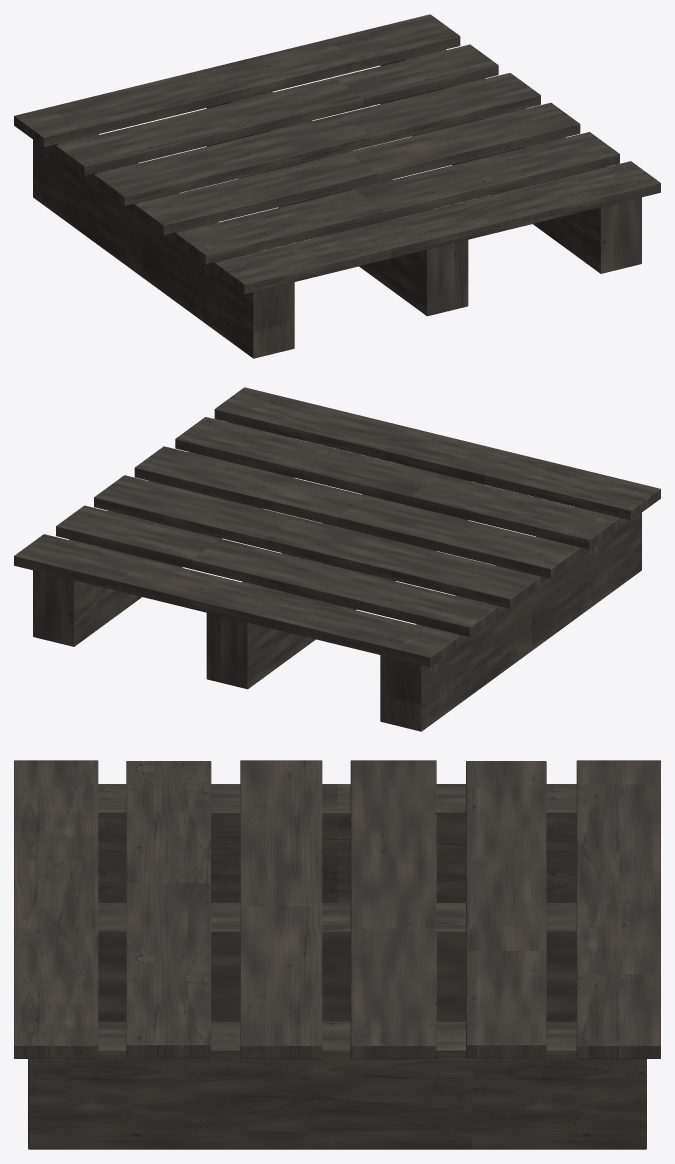
File: SM_wooden_pallet_364c150107.fbx
3 renders of one model, top to bottom at view 1: azimuth 30°, elevation 25°; view 2: azimuth 150°, elevation 25°; view 3: azimuth 270°, elevation 25°, orthographic. The views are drawn at different scales.
Visible parts, largest first — view 1: SM_wooden_pallet_364c150107; view 2: SM_wooden_pallet_364c150107; view 3: SM_wooden_pallet_364c150107.
Part boxes in pixels (<box>): SM_wooden_pallet_364c150107: <box>14,14,660,358</box>; SM_wooden_pallet_364c150107: <box>14,387,660,731</box>; SM_wooden_pallet_364c150107: <box>14,760,660,1149</box>.
Size of what is drawn, in the model's own units: 120 by 115 by 22.47.
2 materials, 2 textured.
